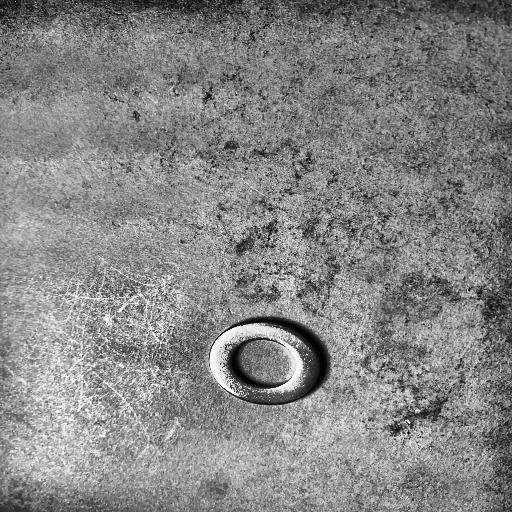Washer: (207, 318, 329, 406)
